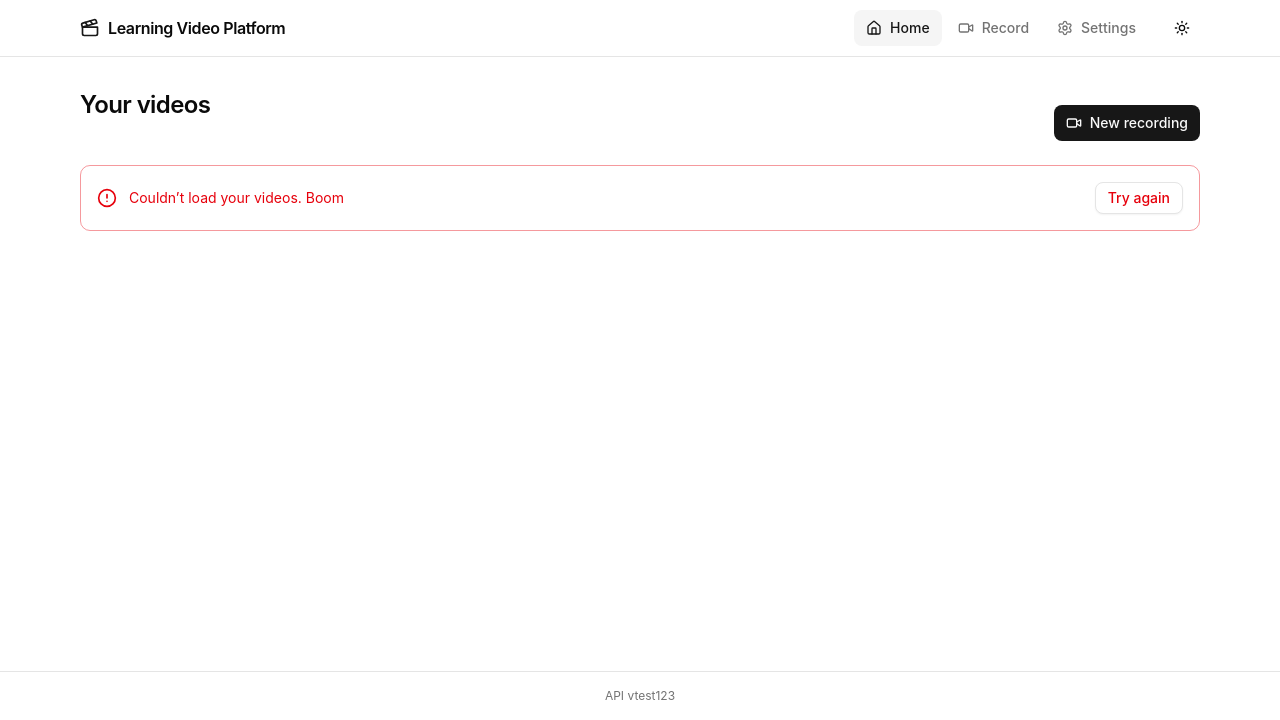
Test case: HomePage › shows an error with retry when the API fails
Expected: the message shows "Boom", left=306, top=189, right=344, bottom=206
What coordinates should you click on to do the following:
click the button "Try again"
I would click on:
 (1139, 198)
Its box is left=1095, top=182, right=1183, bottom=214.
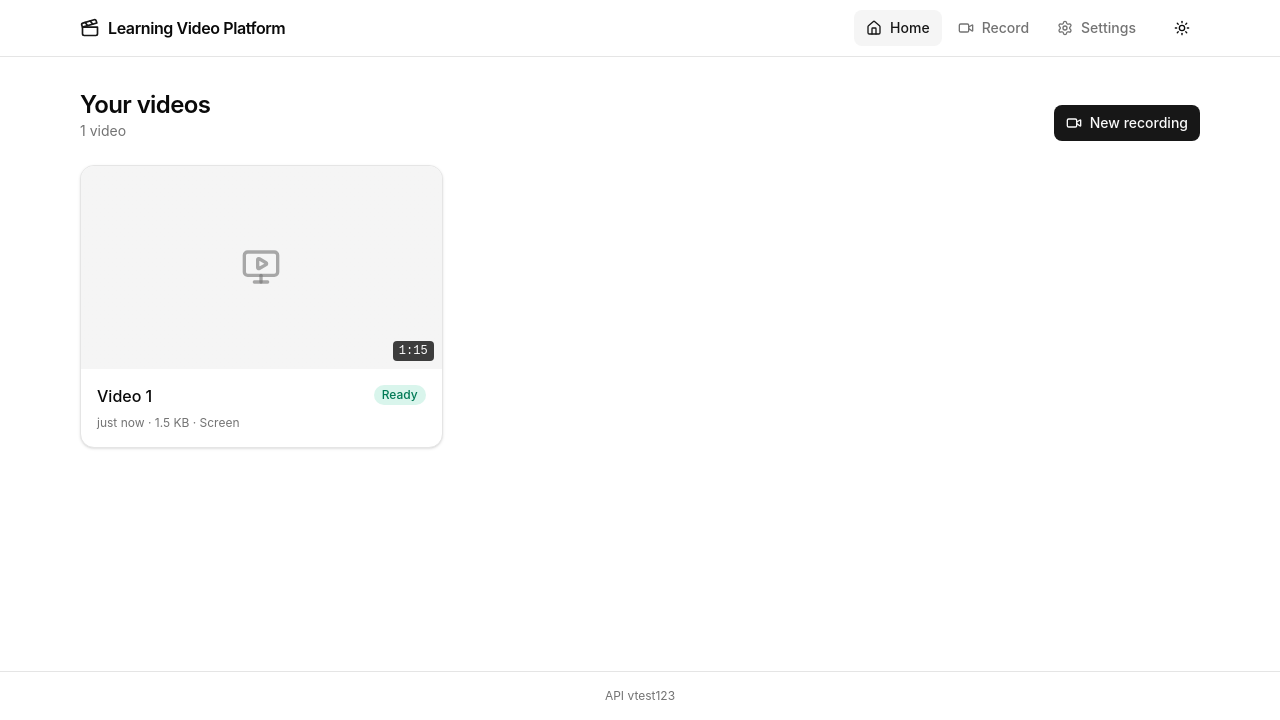
Result: the heading "Video 1" is shown at left=97, top=385, right=152, bottom=407
